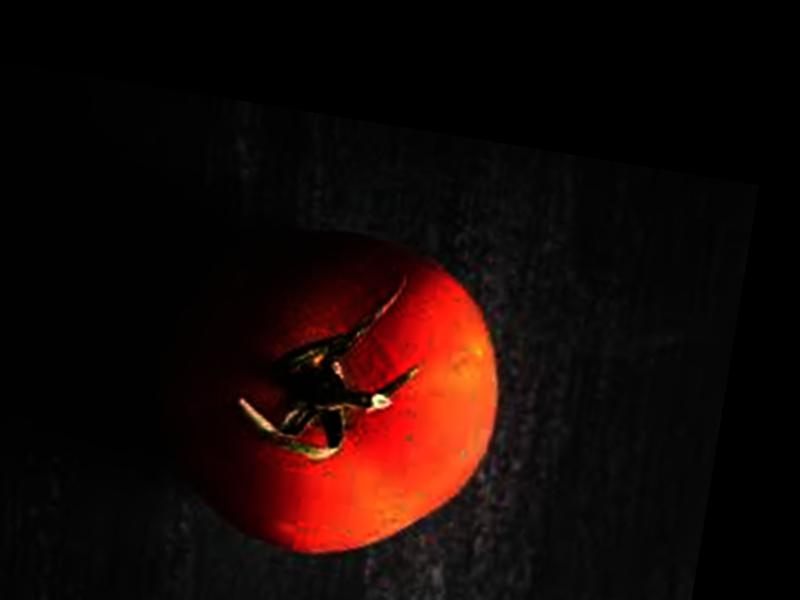Tomato: (140, 211, 522, 580)
